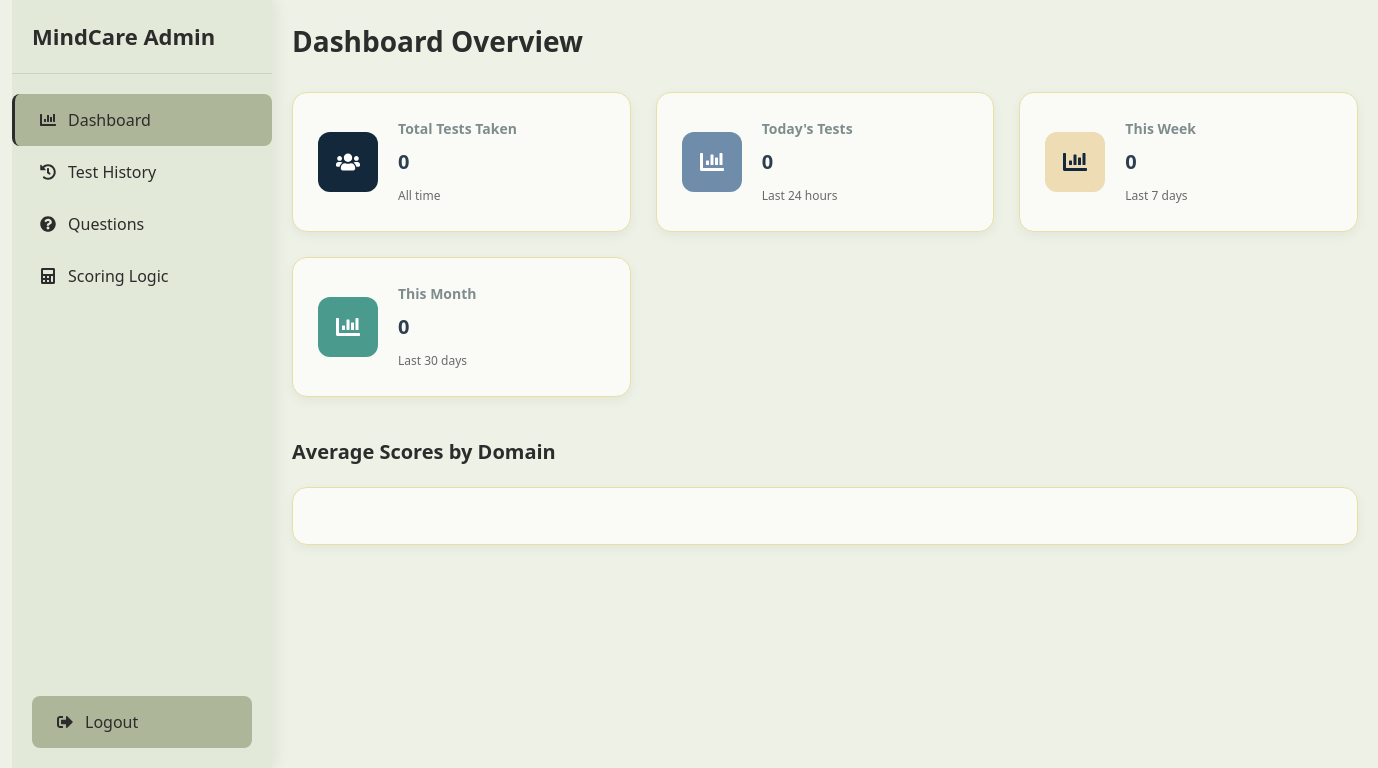
Test: AdminDashboard — Add Question › shows error if question text is empty on submit
The width and height of the screenshot is (1378, 768).
Click the button "Questions". click: (142, 224)
box: [12, 198, 272, 250]
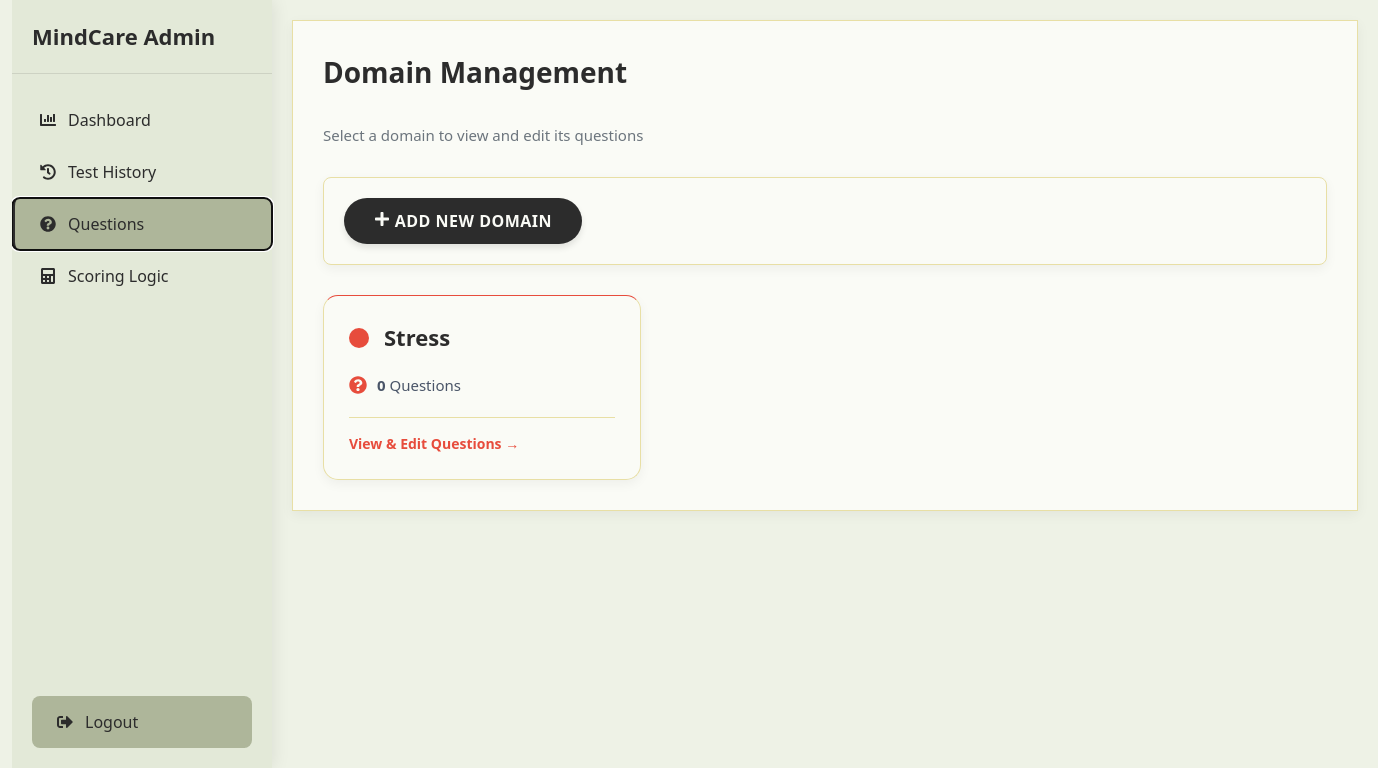
expect the heading "Stress" is shown: met
Click the heading "Stress". click: (417, 338)
box: [384, 321, 450, 354]
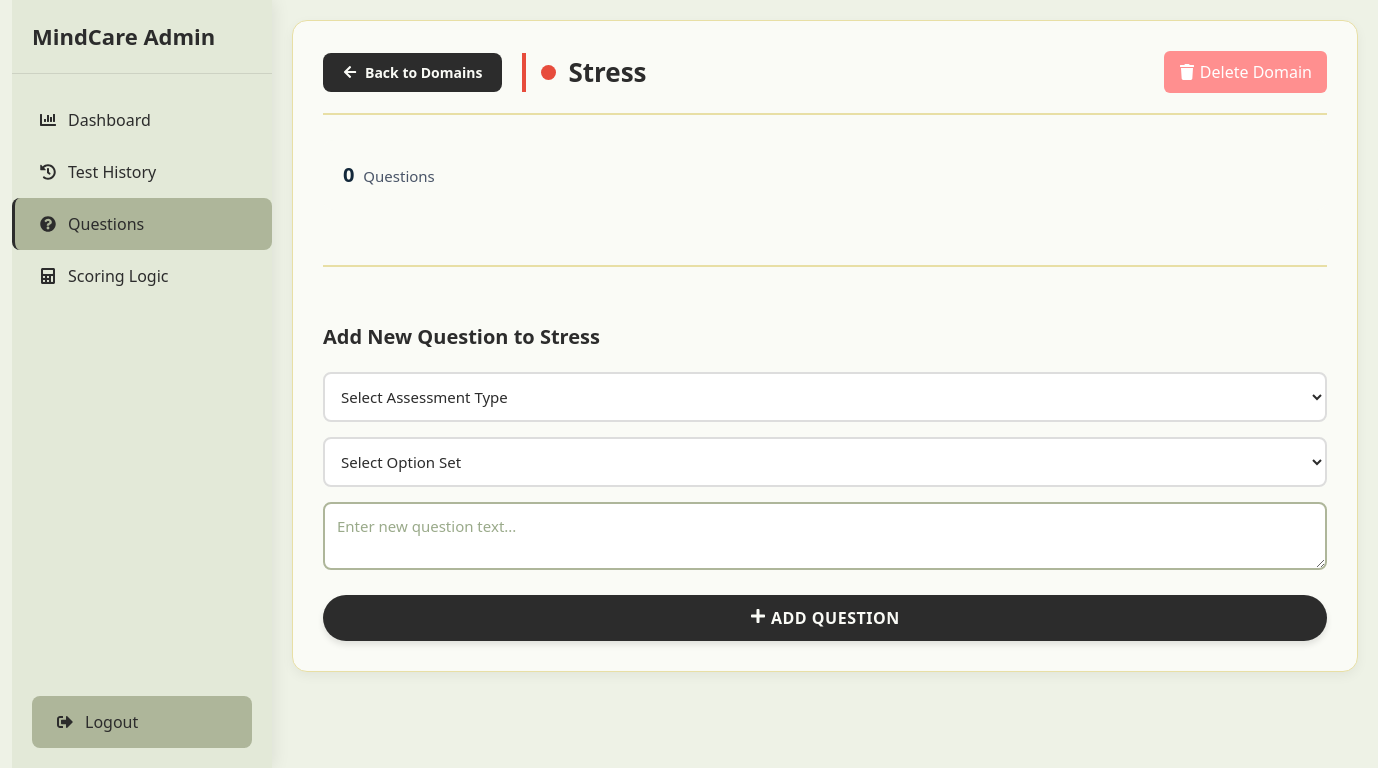
expect the text box with placeholder "Enter new question text..." is shown: met, box [323, 502, 1327, 570]
Select "General Wellness" in the 1st dropdown. click: (825, 397)
box: [323, 372, 1327, 422]
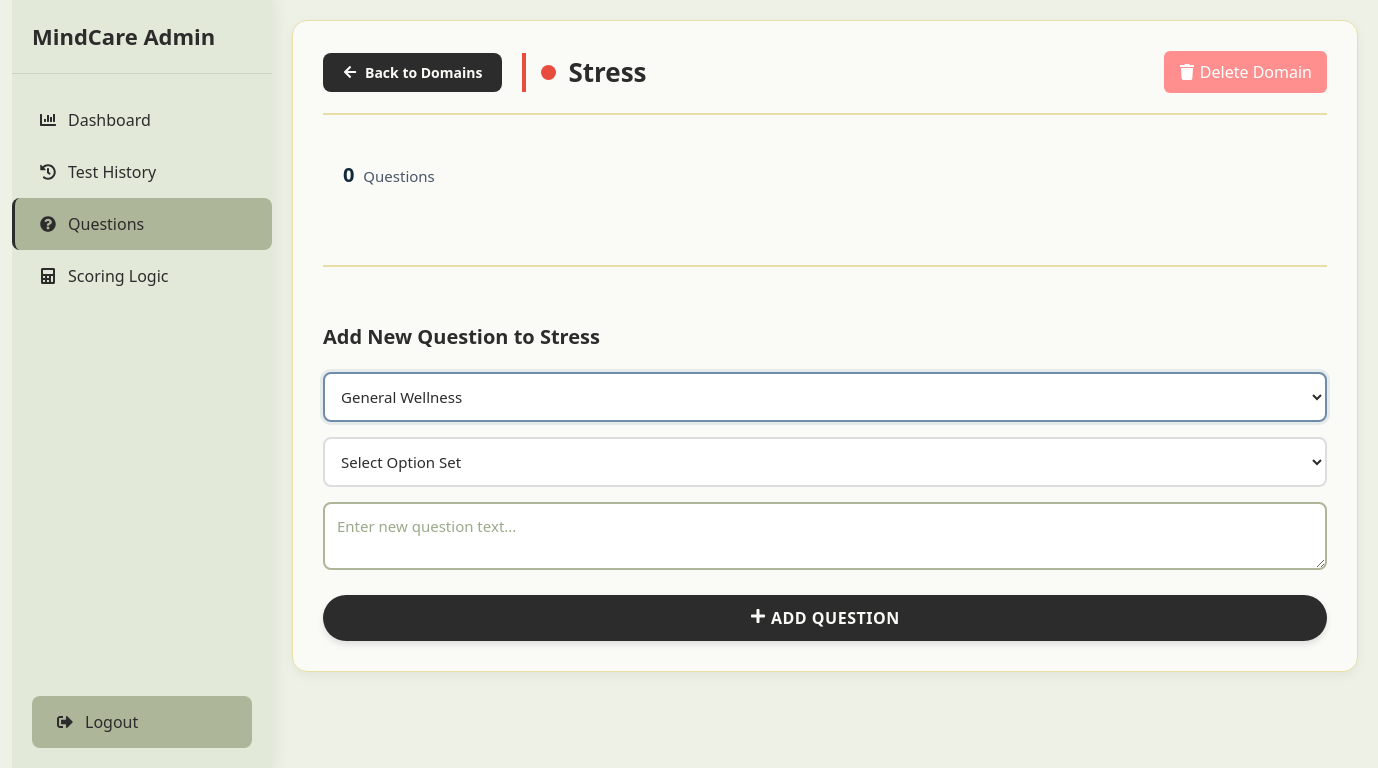
Select "(0 options)" in the 2nd dropdown. click: (825, 462)
box: [323, 437, 1327, 487]
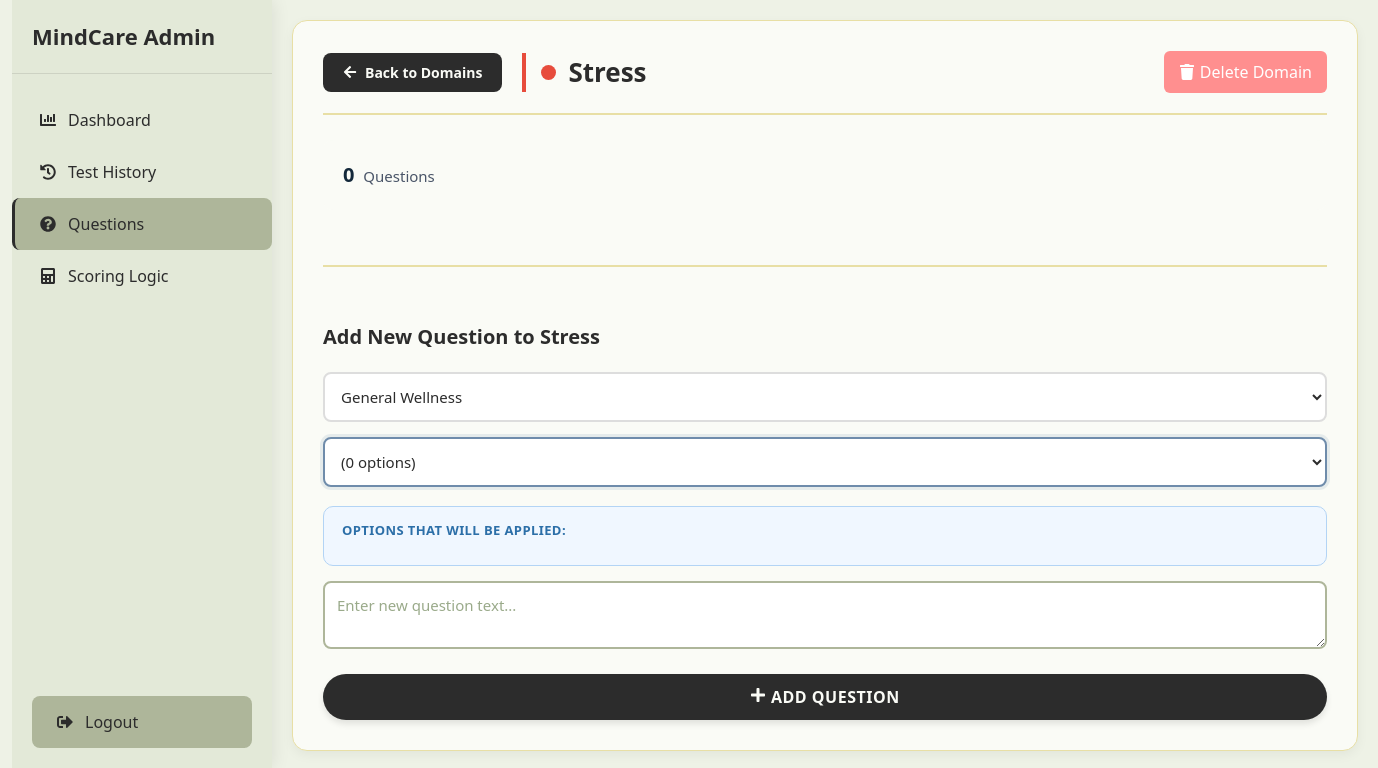
// Now click submit with empty text
Click the button "Add Question". click: (825, 696)
box: [323, 674, 1327, 720]
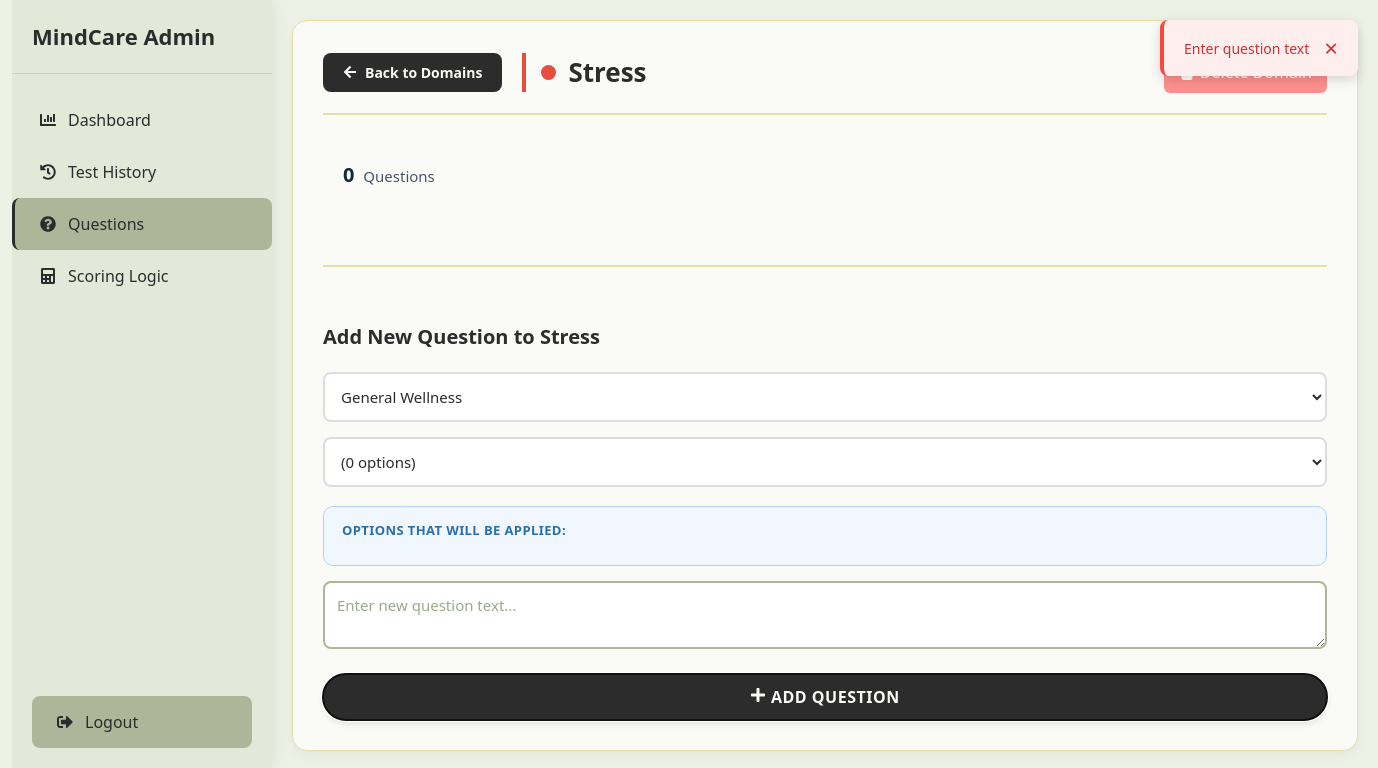
expect the text "Enter question text" is shown: met, box [1184, 38, 1309, 58]
